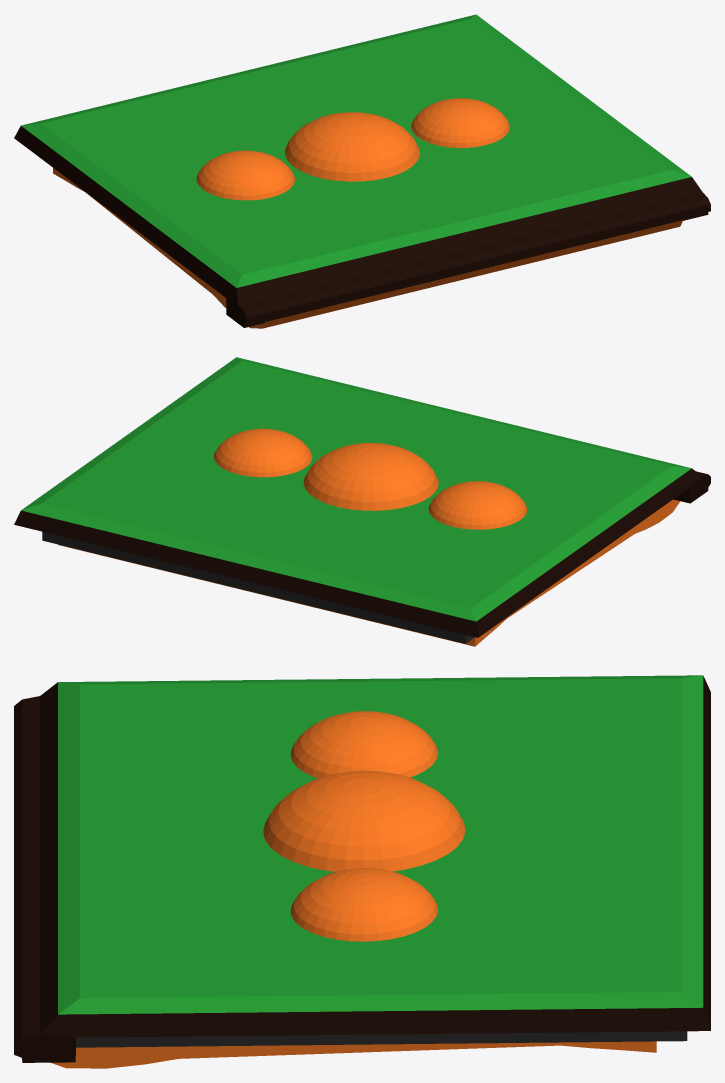
The model's file is BOOK_UP.fbx.
3 views of the same model, one above another, from view 1: azimuth 30°, elevation 25°; view 2: azimuth 150°, elevation 25°; view 3: azimuth 270°, elevation 25° (orthographic). The views are drawn at different scales.
Parts seen in each view (by area): view 1: Page2; view 2: Page2; view 3: Page2.
Part boxes in pixels (x1=…): Page2: x1=14, y1=14, x2=710, y2=328; Page2: x1=14, y1=357, x2=710, y2=646; Page2: x1=14, y1=675, x2=710, y2=1068.
Bounding box in the file's own units: 713 × 124 × 620.
